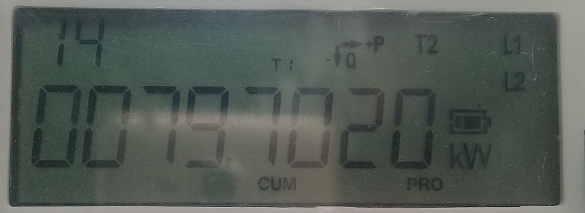digit: (222, 71, 285, 187), (27, 71, 85, 181), (380, 76, 443, 176), (332, 76, 388, 173), (85, 76, 132, 189), (135, 76, 182, 184), (282, 87, 332, 184), (180, 87, 232, 179)
